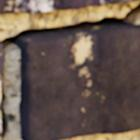brick: (18, 24, 139, 139), (0, 0, 139, 14), (0, 54, 1, 73)
crack: (0, 1, 139, 138)
